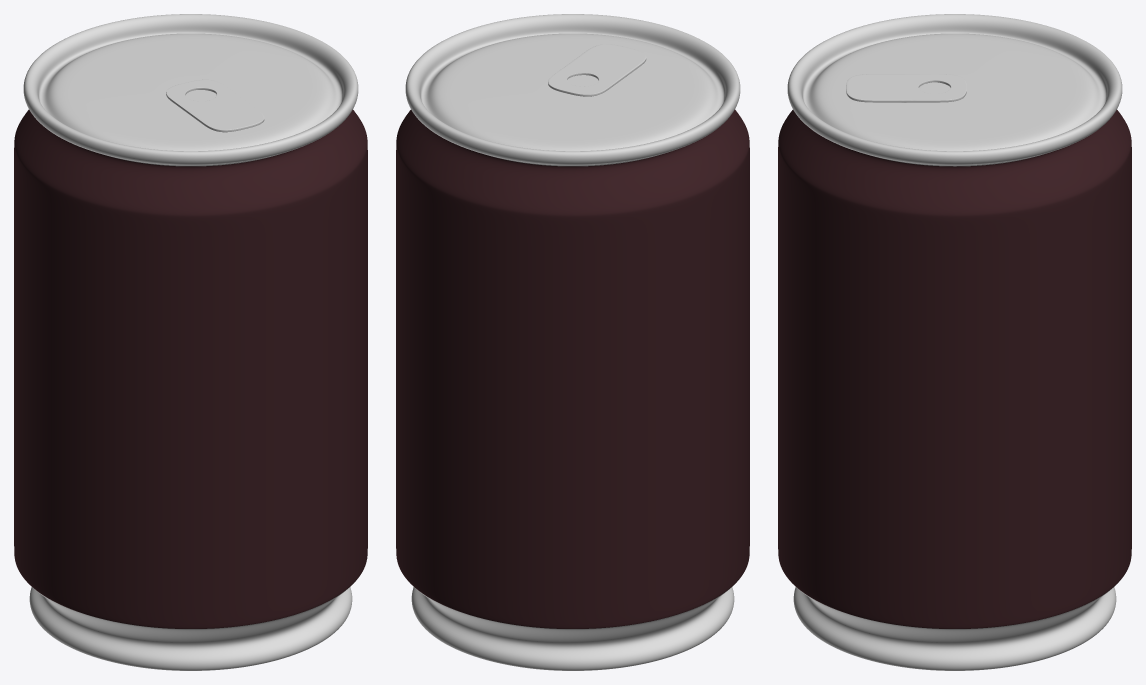
Rendered from can.fbx.
The picture shows the model from 3 angles, left to right: view 1: azimuth 30°, elevation 25°; view 2: azimuth 150°, elevation 25°; view 3: azimuth 270°, elevation 25°; orthographic projection.
Parts seen in each view (by area): view 1: Coke; view 2: Coke; view 3: Coke.
Part boxes in pixels (left/top/right/bottom): Coke: left=14, top=14, right=367, bottom=670; Coke: left=396, top=14, right=749, bottom=670; Coke: left=778, top=14, right=1131, bottom=670.
Size of the model in its own units: 119 by 193 by 119.
